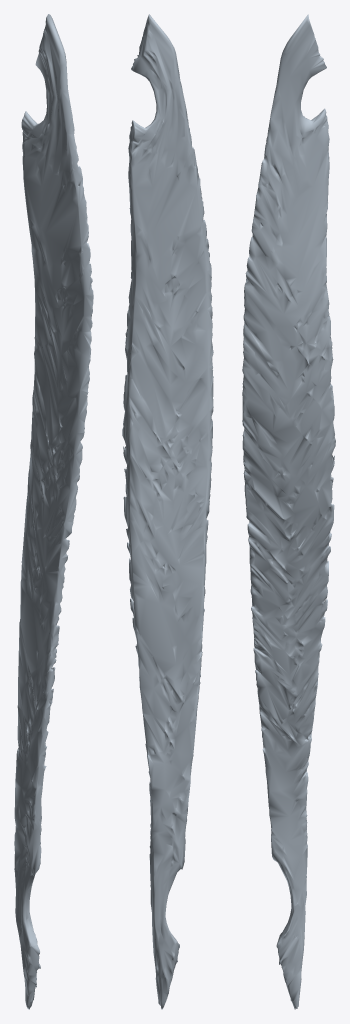
File: interosseous-membrane-of-leg-l.glb
3 renders of one model, left to right at view 1: azimuth 90°, elevation 25°; view 2: azimuth 150°, elevation 25°; view 3: azimuth 330°, elevation 25°, orthographic. The views are drawn at different scales.
Parts seen in each view (by area): view 1: Interosseous membrane of leg.l; view 2: Interosseous membrane of leg.l; view 3: Interosseous membrane of leg.l.
Part boxes in pixels (x1,y1,x2,y2): Interosseous membrane of leg.l: [14, 14, 93, 1009]; Interosseous membrane of leg.l: [122, 14, 213, 1009]; Interosseous membrane of leg.l: [242, 14, 335, 1009].
Bounding box in the file's own units: 0.0225 × 0.2927 × 0.0214.
